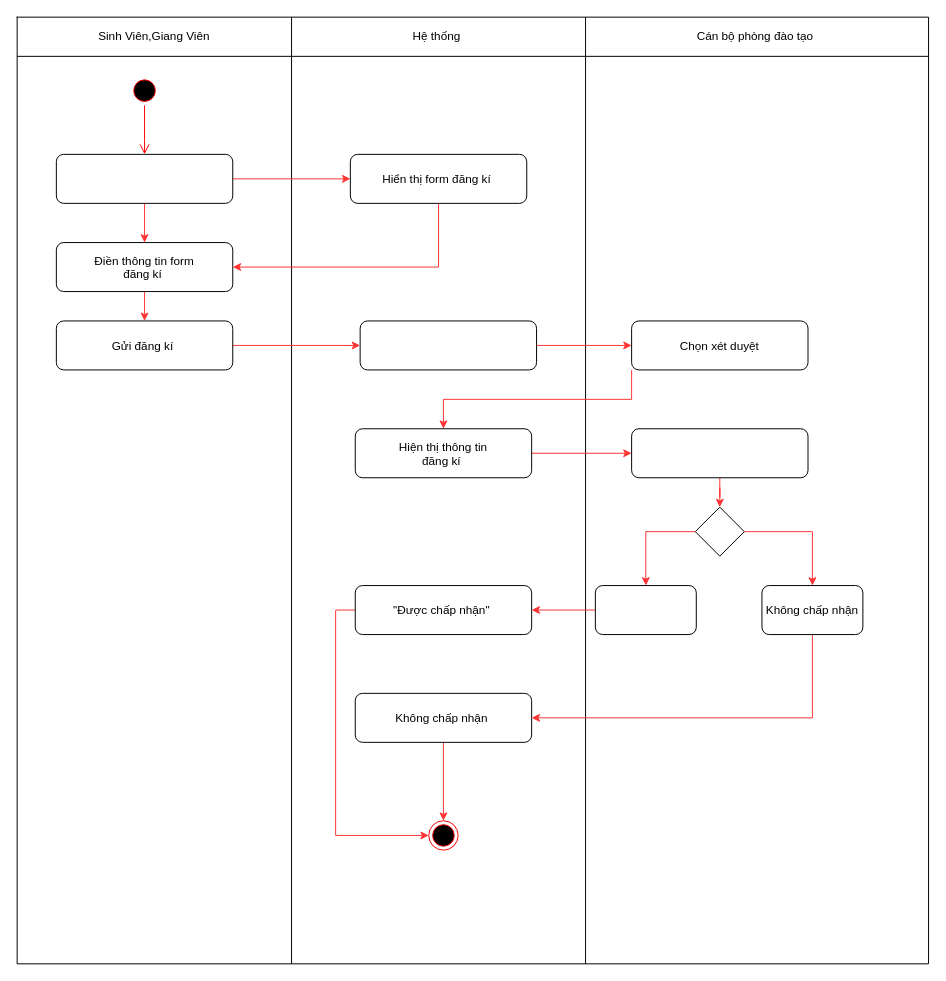
This 946x981 diagram has some shape labels left out. The centre of each missing label's shape, as x and y in pixels:
Chấp nhận đăng kí: point (645, 610)
Chọn cập nhật hồ sơ: point (144, 178)
Thông báo "Chờ xét duyệt": point (448, 345)
Xem xét điều kiện: point (719, 453)
